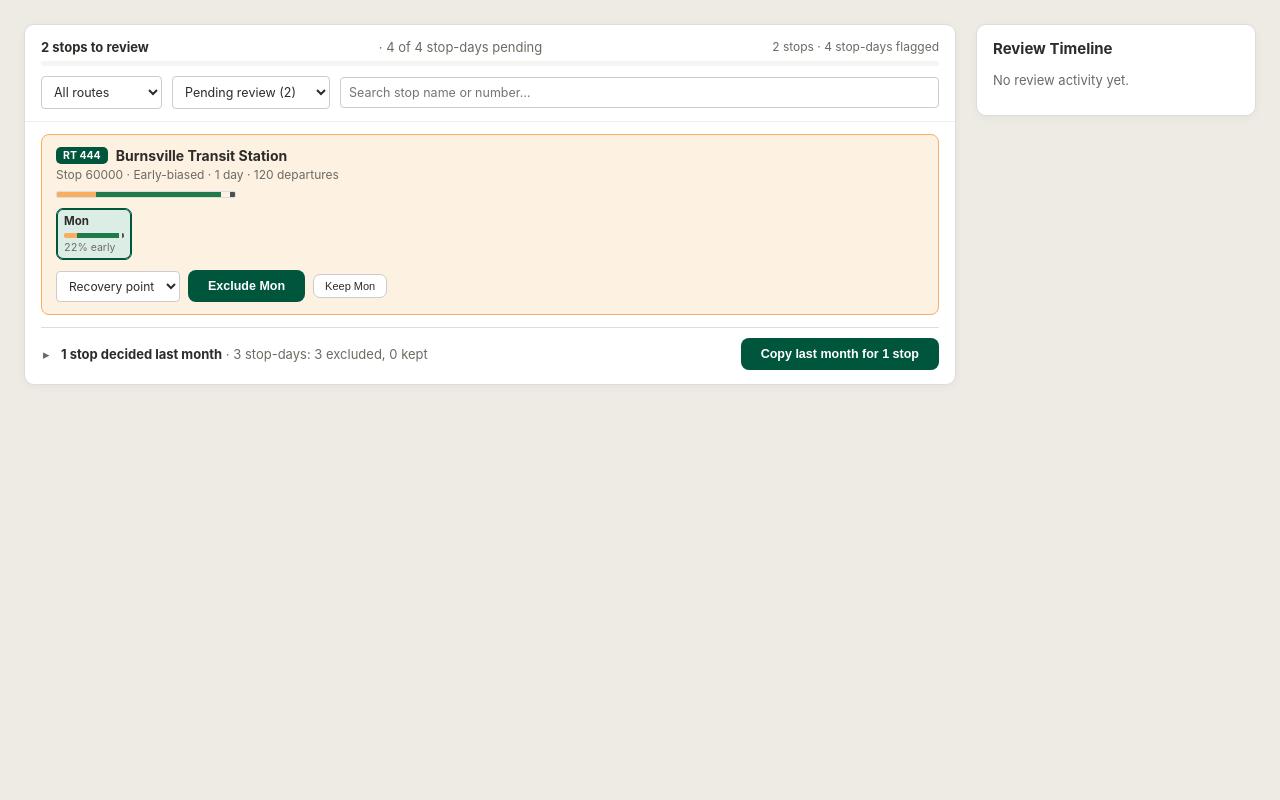
it: stops last month already decided › folds them below the stops that need a fresh look
This screenshot has width=1280, height=800.
Expected: the element "Burnsville Transit Station" is shown, [41,134,939,315]
Expected: the element "Apple Valley Transit Station" is not shown
Click the button "1 stop decided last month" at (235, 354), box [41,340,430,368]
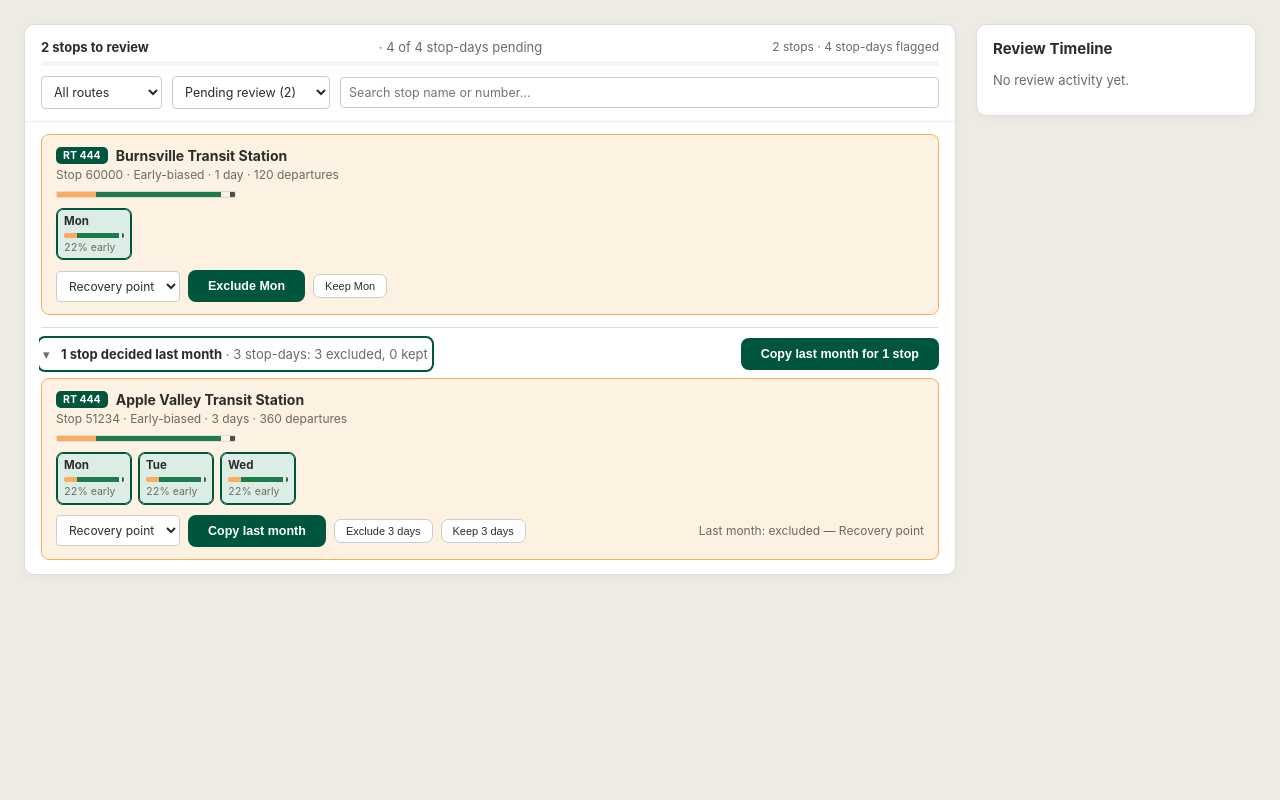
Expected: the button "Copy last month" is shown, [188,515,326,547]
